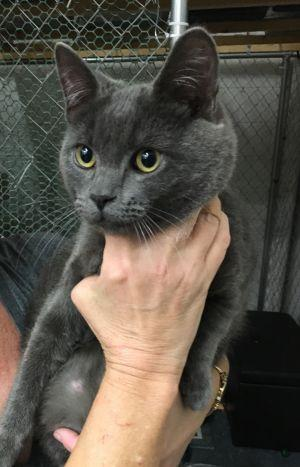rblue: (33, 27, 244, 252)
